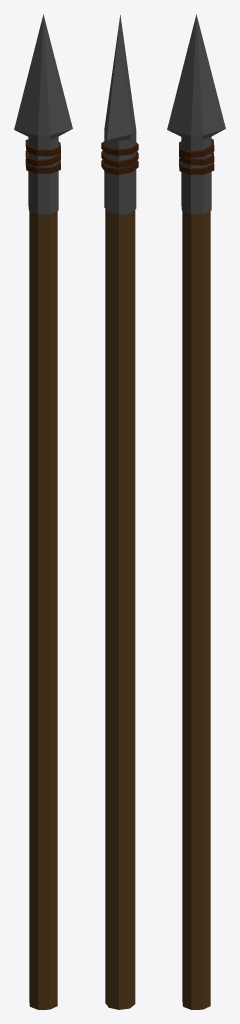
The model's file is spear-by-creativetechlab-v34vWSwOes.glb.
The picture shows the model from 3 angles, left to right: view 1: azimuth 90°, elevation 25°; view 2: azimuth 150°, elevation 25°; view 3: azimuth 270°, elevation 25°; orthographic projection.
Visible parts, largest first — view 1: spear; view 2: spear; view 3: spear.
Part boxes in pixels (<box>): spear: <box>14,14,72,1009</box>; spear: <box>101,15,138,1009</box>; spear: <box>167,14,225,1009</box>.
Size of the model in its own units: 0.0743 by 2.3 by 0.1239.
